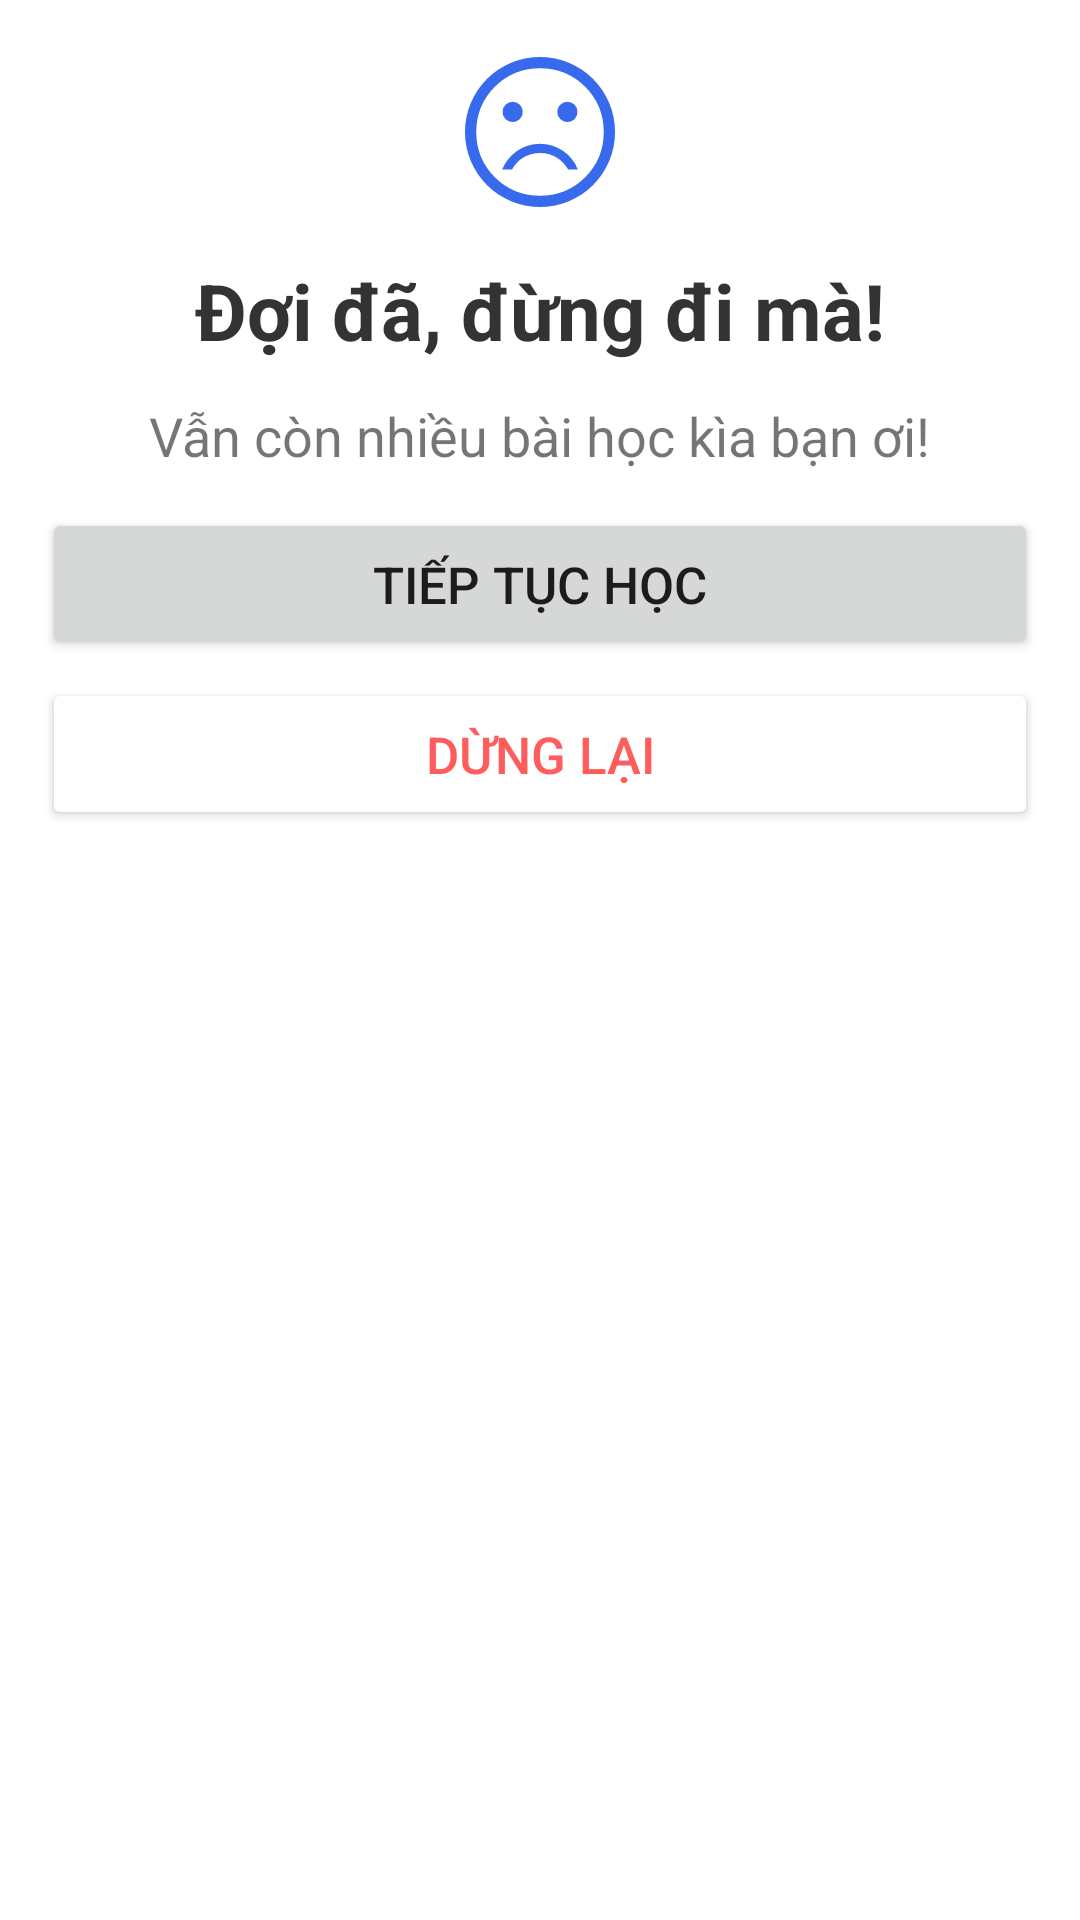

Where to tap for icons on this 1080px x 1920px app screen, as point (x, y):
sad face: point (540, 132)
